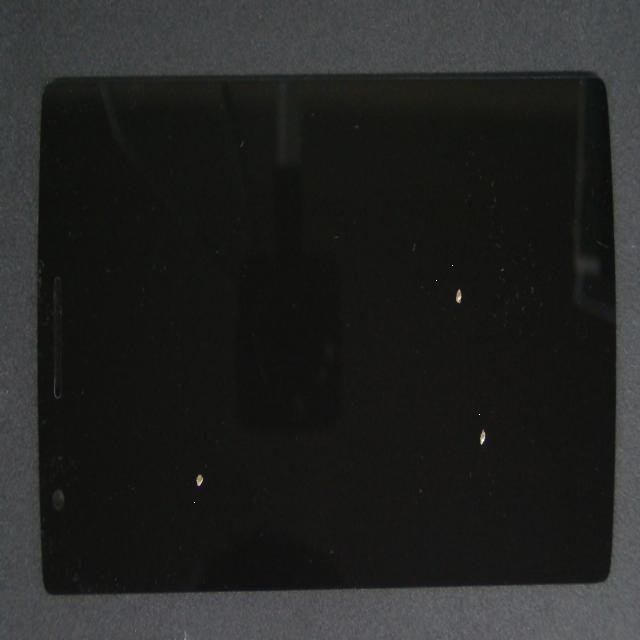stain: (228, 191, 640, 640), (215, 106, 640, 427), (83, 236, 276, 640)
